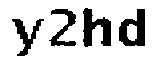2: (47, 8, 79, 47)
d: (117, 7, 150, 51)
h: (80, 8, 114, 49)
y: (9, 16, 43, 60)
